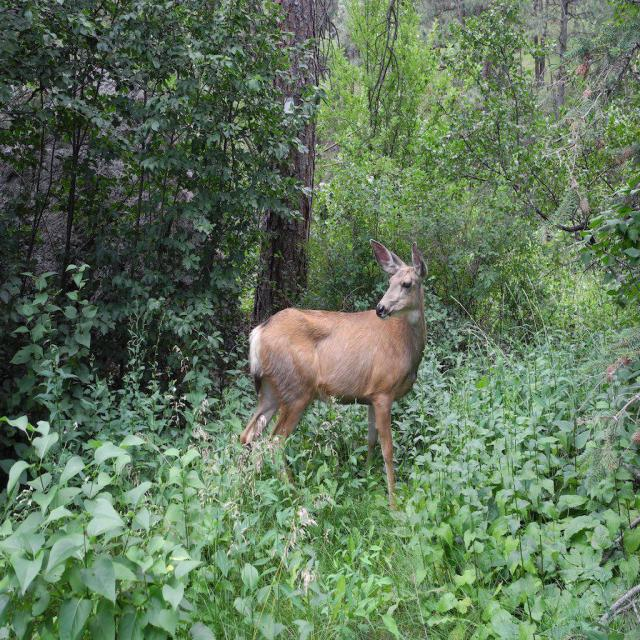Deer: (239, 237, 429, 515)
